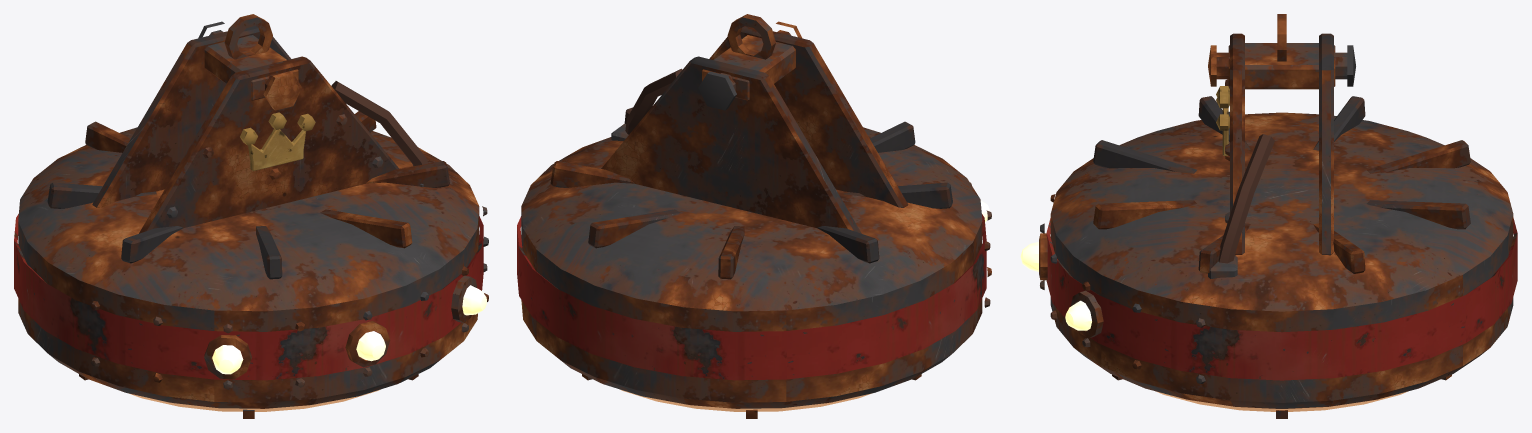
Rendered from Magnet_Head.glb.
3 views of the same model, side by side, from view 1: azimuth 30°, elevation 25°; view 2: azimuth 150°, elevation 25°; view 3: azimuth 270°, elevation 25° (orthographic).
Visible parts, largest first — view 1: Magnet_Head; view 2: Magnet_Head; view 3: Magnet_Head.
Boxes of the visible parts, box(x1,y1,x2,y2) form: Magnet_Head: box(14, 14, 488, 418); Magnet_Head: box(517, 14, 991, 418); Magnet_Head: box(1020, 14, 1517, 418).
Size of the model in its own units: 1.59 by 1.19 by 1.68.
6 materials, 4 textured.
